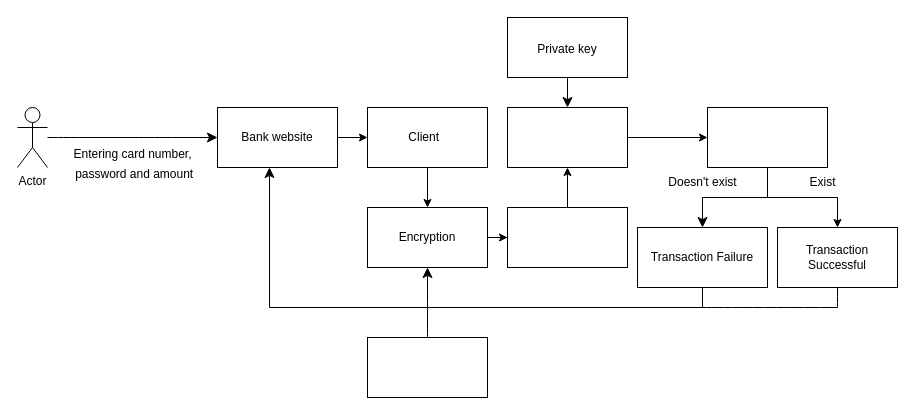
The diagram is 915 pixels wide and 415 high, and some of its shapes have lost their labels. The centre of each missing label's shape, as x and y in pixels:
"Check the entered number with database" belongs at [767,137].
"Decryption" belongs at [567,137].
"Public key" belongs at [427,367].
"Server" belongs at [567,237].
